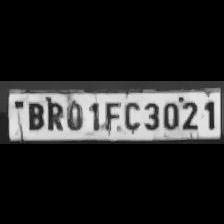0: (63, 98, 85, 130), (159, 97, 179, 129)
1: (84, 97, 104, 130), (200, 97, 216, 129)
2: (180, 97, 200, 130)
3: (140, 97, 160, 129)
B: (23, 98, 44, 130)
C: (120, 97, 140, 130)
F: (100, 97, 119, 130)
R: (44, 97, 64, 131)
